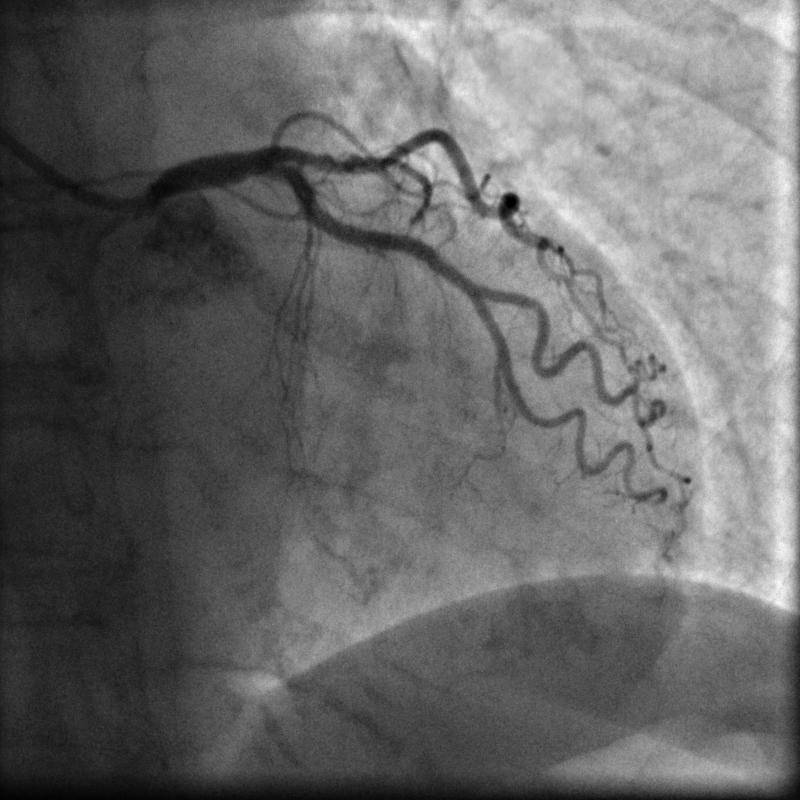Stenosis: (333, 155, 359, 170)
